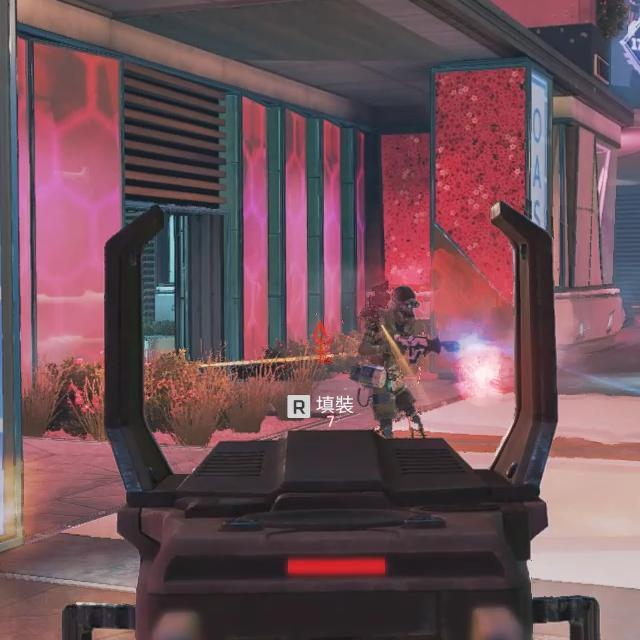avatar: (349, 282, 426, 435)
